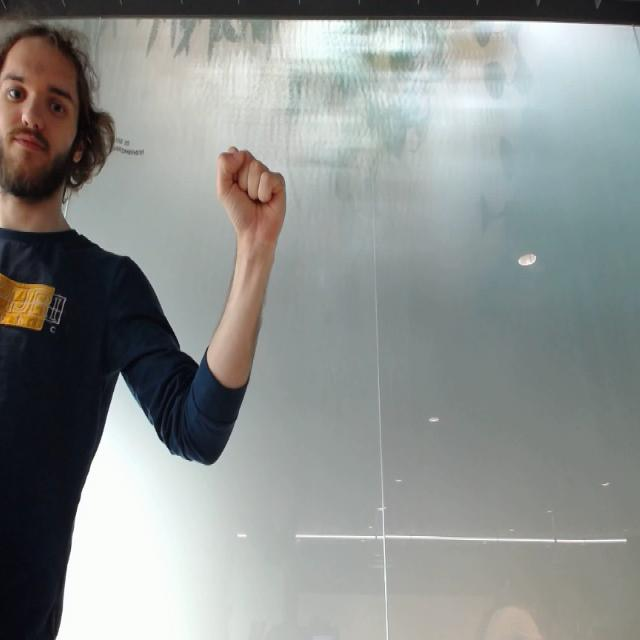stop: (214, 140, 292, 250)
